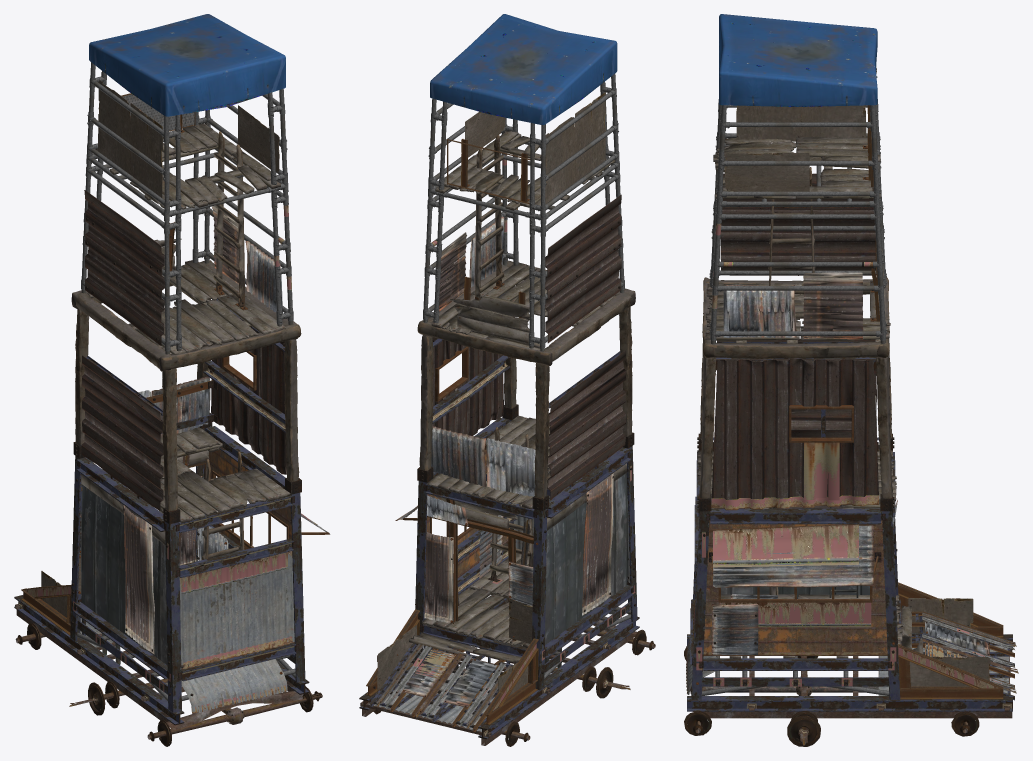
The model's file is siege_tower_prefab.glb.
The picture shows the model from 3 angles, left to right: view 1: azimuth 30°, elevation 25°; view 2: azimuth 150°, elevation 25°; view 3: azimuth 270°, elevation 25°; orthographic projection. The views are drawn at different scales.
Parts seen in each view (by area): view 1: SiegeTower_Floor1_LOD0, SiegeTower_Floor3_LOD0, SiegeTower_Floor2_LOD0, Ladder_Wood_LOD0 (×2); view 2: SiegeTower_Floor1_LOD0, SiegeTower_Floor3_LOD0, SiegeTower_Floor2_LOD0, Ladder_Wood_LOD0 (×2); view 3: SiegeTower_Floor1_LOD0, SiegeTower_Floor3_LOD0, SiegeTower_Floor2_LOD0, Ladder_Wood_LOD0.
Part boxes in pixels (x1,y1,x2,y2): SiegeTower_Floor1_LOD0: [14, 426, 330, 746]; SiegeTower_Floor3_LOD0: [81, 14, 293, 354]; SiegeTower_Floor2_LOD0: [71, 260, 301, 525]; Ladder_Wood_LOD0 (×2): [201, 131, 244, 559]; SiegeTower_Floor1_LOD0: [359, 417, 655, 746]; SiegeTower_Floor3_LOD0: [423, 14, 624, 351]; SiegeTower_Floor2_LOD0: [417, 260, 635, 510]; Ladder_Wood_LOD0 (×2): [475, 135, 533, 580]; SiegeTower_Floor1_LOD0: [684, 438, 1018, 746]; SiegeTower_Floor3_LOD0: [705, 14, 890, 344]; SiegeTower_Floor2_LOD0: [697, 277, 896, 512]; Ladder_Wood_LOD0: [768, 167, 815, 318].
Bounding box in the file's own units: 4.77 × 13.09 × 6.
16 materials, 16 textured.
